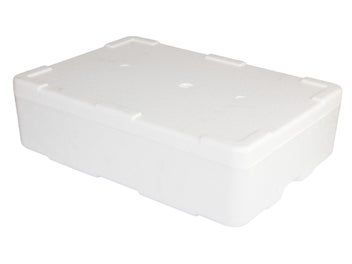Boxes: (14, 37, 340, 212)
